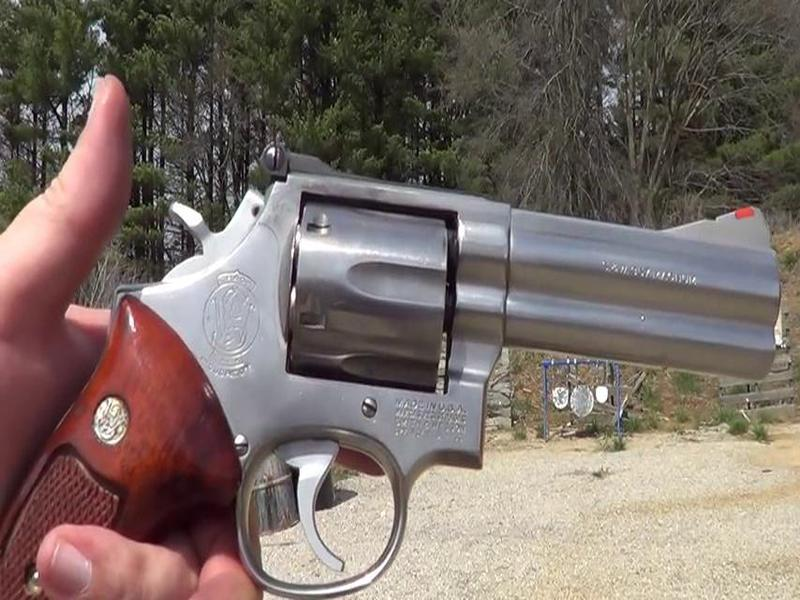Revolver: (49, 145, 774, 594)
